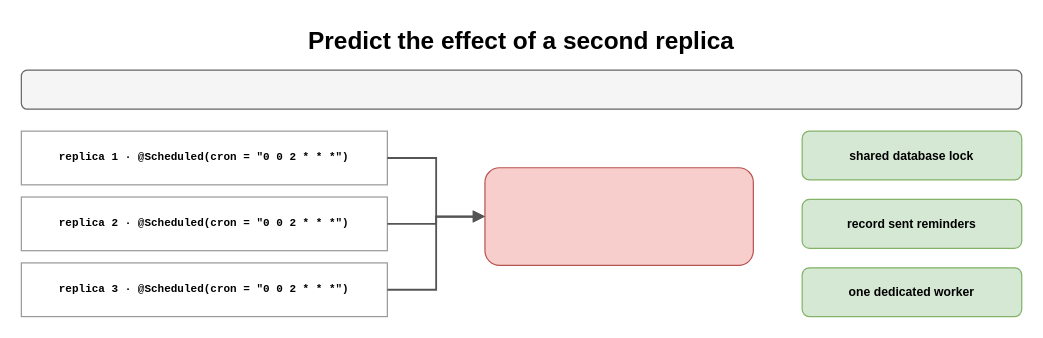
This 1043x338 diagram has some shape labels left out. The shapes that lost their labels are listed below. From the top down, each one's box as (x1, y1, x2, y2) in pixels, then its label:
(20, 69, 1022, 109): Every replica runs the scheduled method
(484, 167, 753, 265): member gets 3 reminder emails every night
